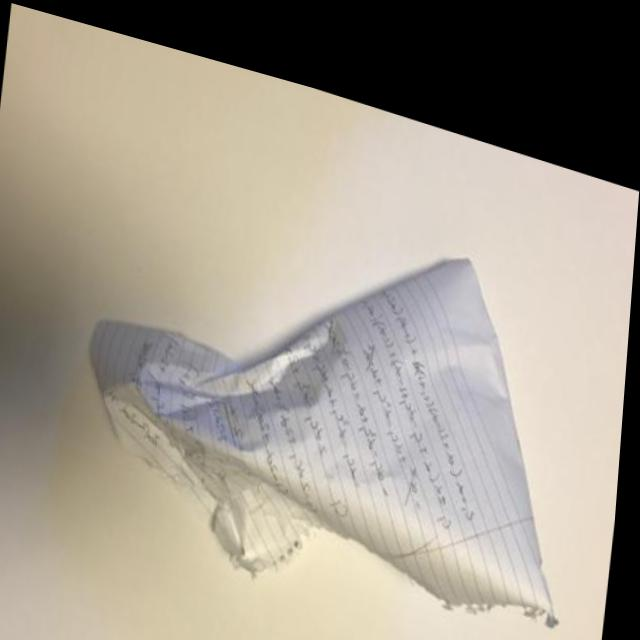paper: (43, 109, 604, 640)
